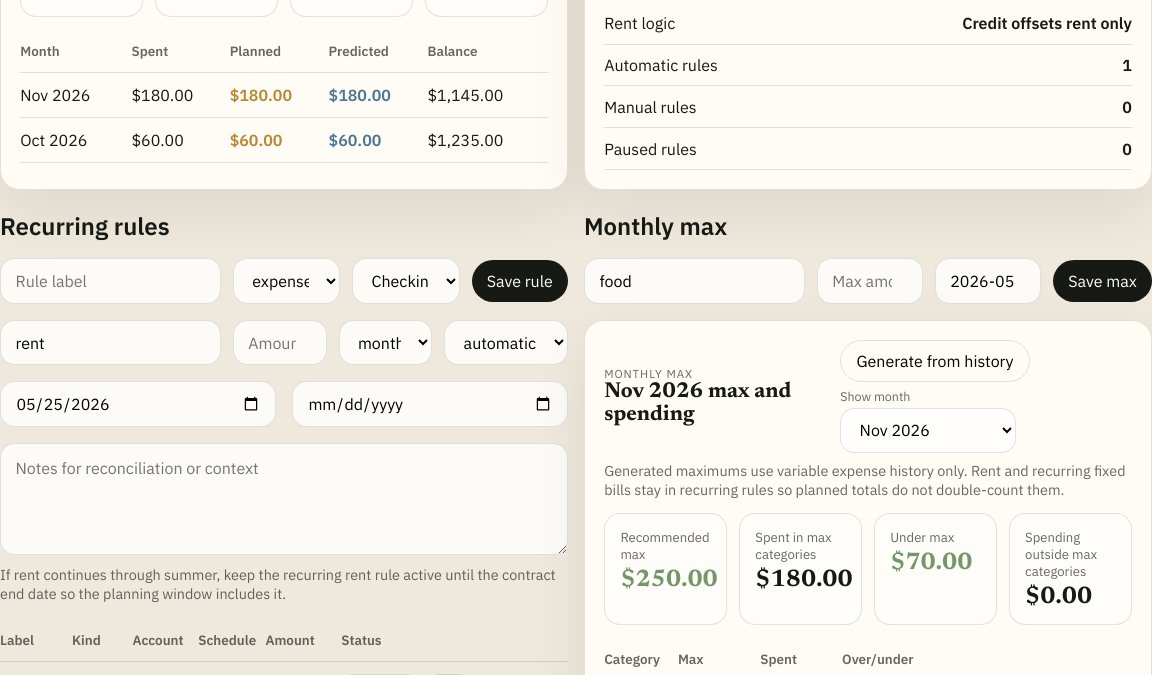
Scenario: PlanPage › generates monthly maximums from history after confirmation
(page scrolled)
What coordinates should you click on to do the following:
click the button "Generate from history"
I would click on:
 (935, 361)
Its box is [840, 340, 1030, 382].
(page scrolled)
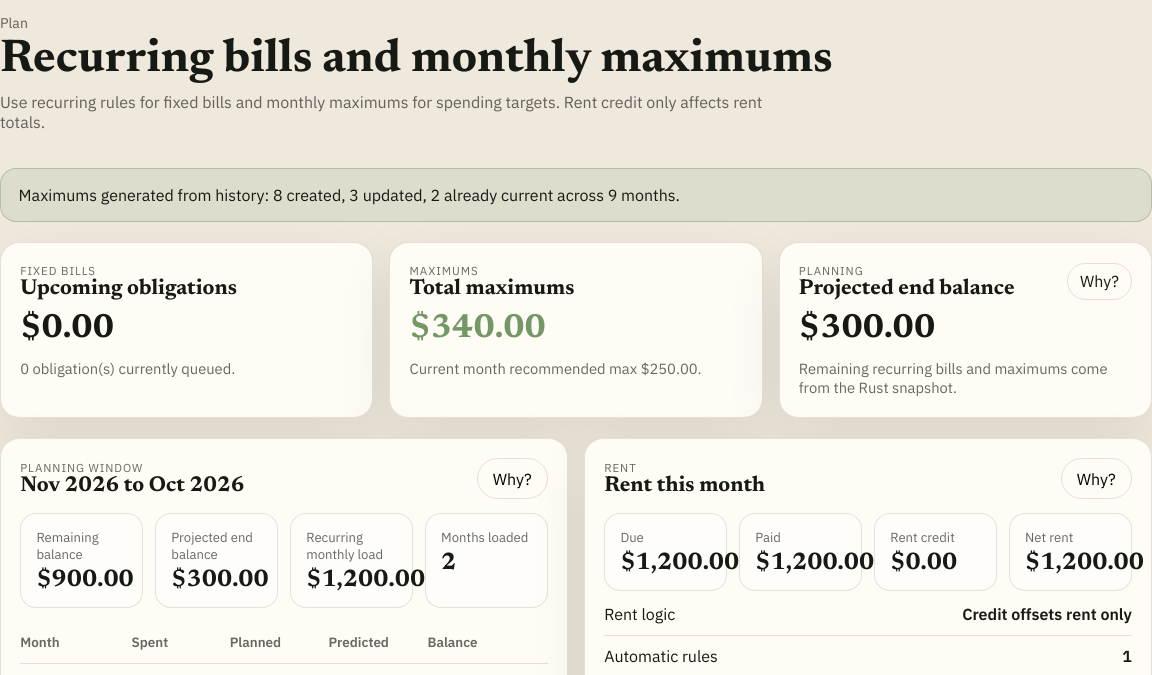
Now the text "8 created, 3 updated, 2 already current" is shown, box [19, 185, 680, 205]
